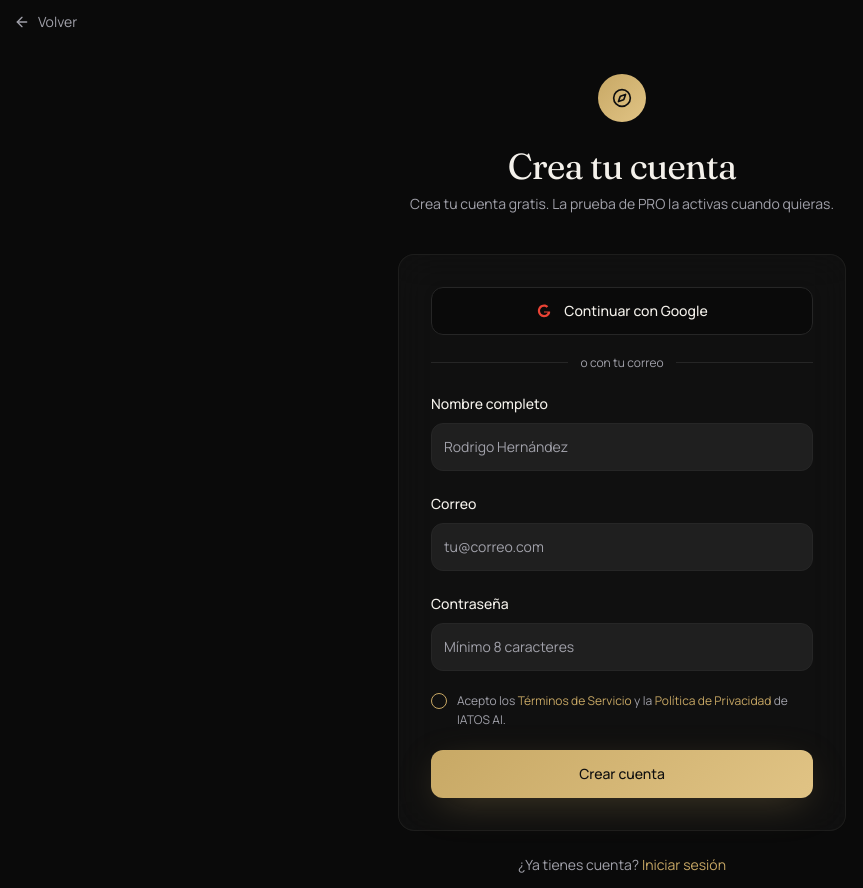
#12 · registro: el botón dice por qué falta aceptar los Términos › el botón no queda deshabilitado en silencio y aparece el aviso
Expected: the button "Crear cuenta" is enabled, [431,750,813,798]
Type "Ana" into the field labelled "Nombre completo". click: (622, 446)
box: [431,422,813,470]
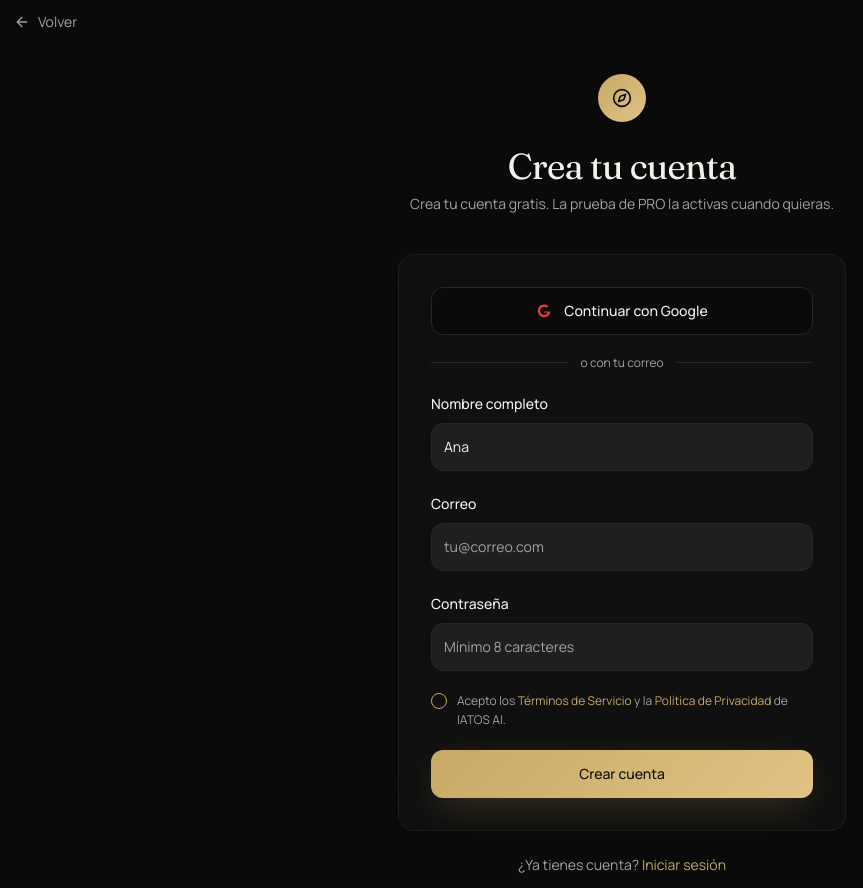
Type "ana@example.test" into the field labelled "Correo". click: (622, 546)
box: [431,522,813,570]
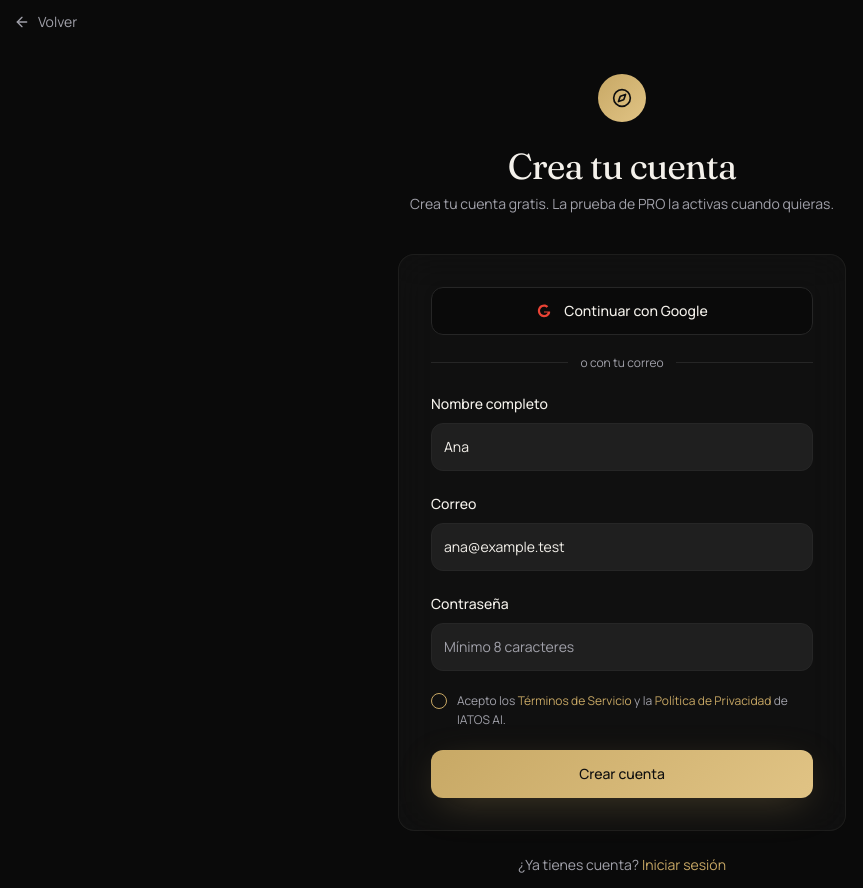
Type "unaclave-larga-2026" into the password field labelled "Contraseña". click: (622, 646)
box: [431,622,813,670]
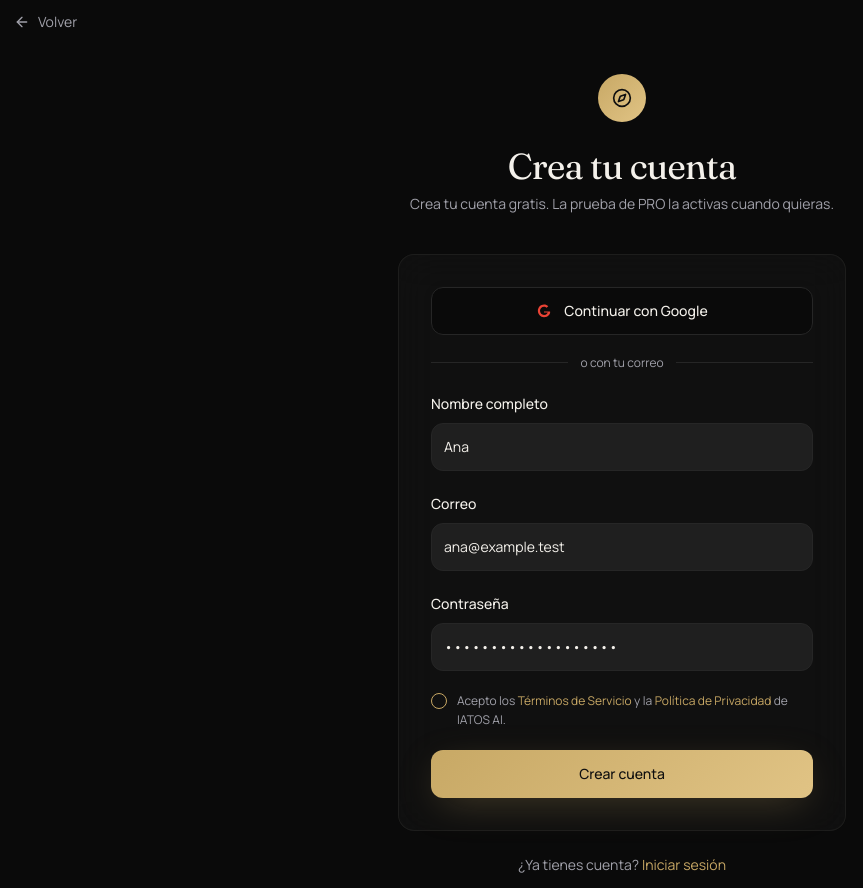
Click the button "Crear cuenta". click: (622, 774)
box: [431,750,813,798]
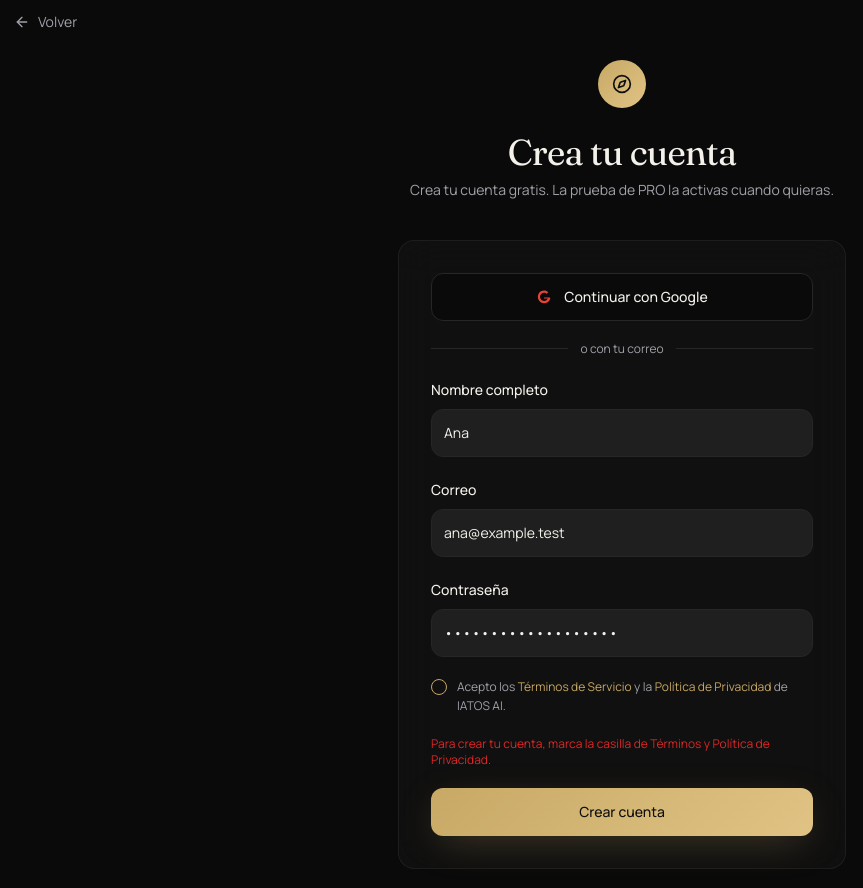
Result: the text "Para crear tu cuenta, marca la casilla de Términos y Política de Privacidad." is shown at [431,736,813,768]
